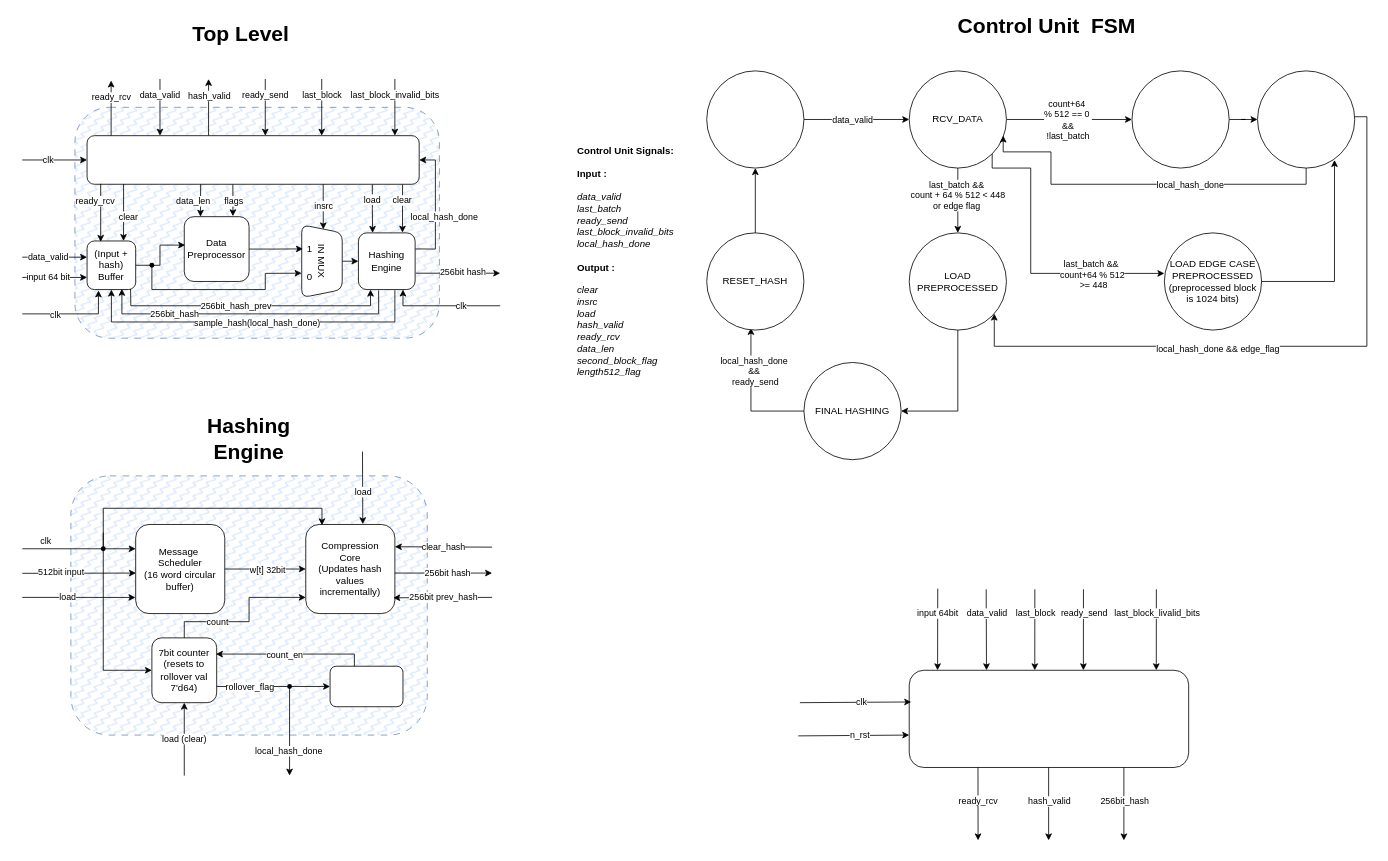
Image size: 1388x861. Some labels were removed from this diagram. The centre of each missing label's shape, as x and y in pixels:
Control Unit: the point at 252,159
count_en = ~rollover_flag: the point at 366,686
HASHING: the point at 1306,119
IDLE: the point at 755,119
LOAD_RAW: the point at 1180,119
Sha256 Top Level: the point at 1048,718
